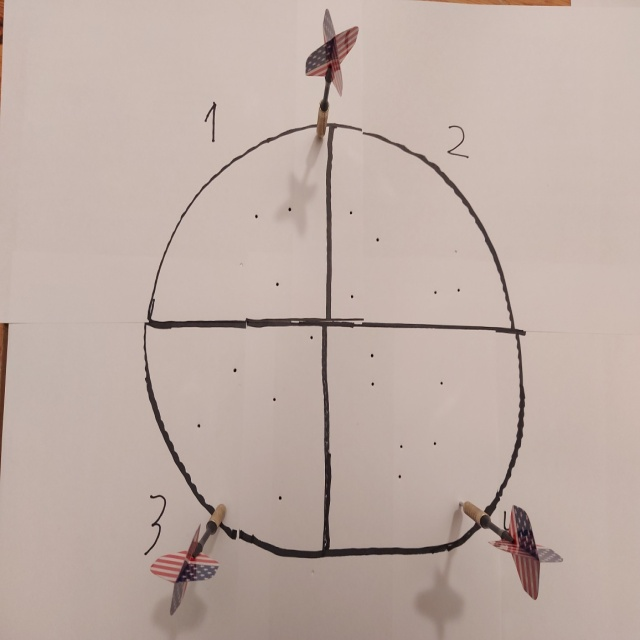Dart: (454, 495, 566, 606), (145, 500, 230, 615), (297, 7, 364, 147)
